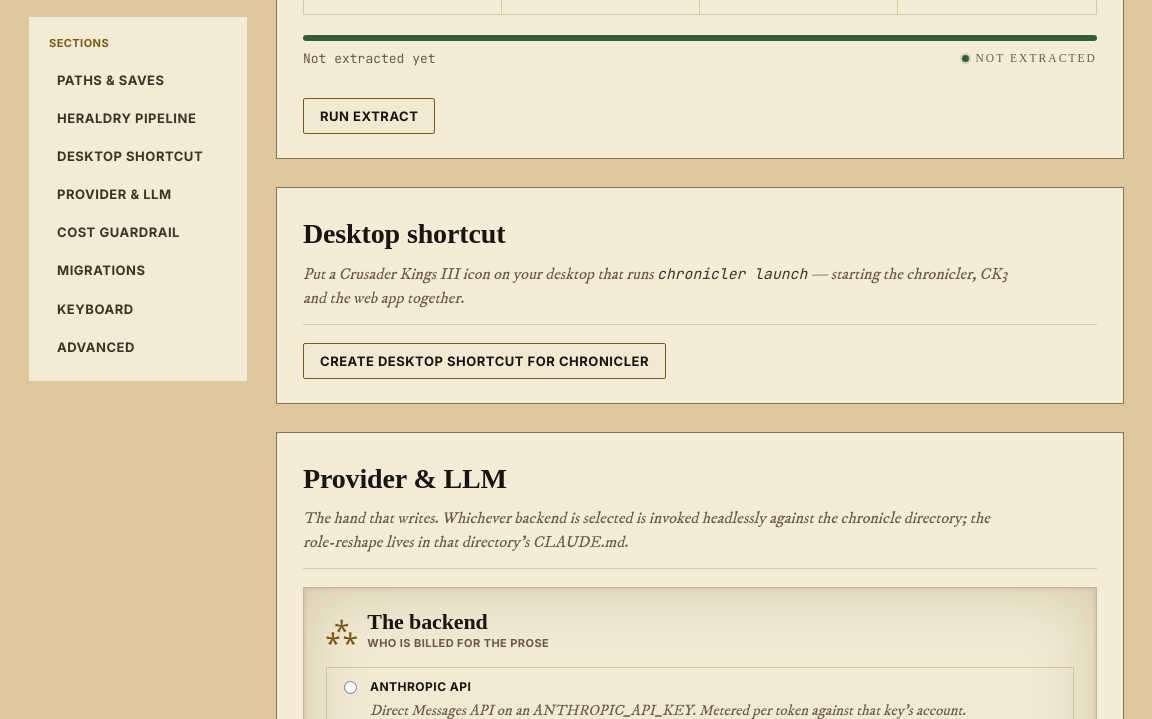
SettingsPage desktop shortcut card › surfaces the server message on error
The width and height of the screenshot is (1152, 719).
(page scrolled)
What coordinates should you click on to do the following:
click the button with test id "desktop-shortcut-button"
I would click on:
 (484, 360)
Its box is [303,342,666,378].
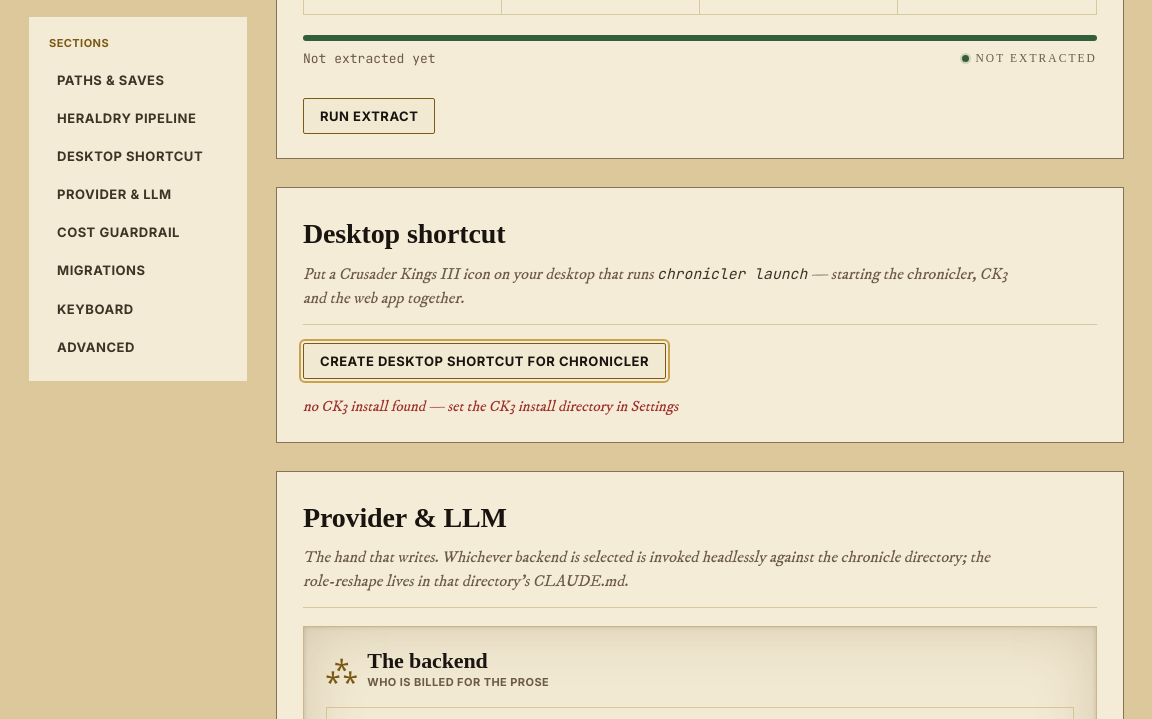
Expected: the text with test id "desktop-shortcut-error" shows "no CK3 install found", [303,396,678,416]
